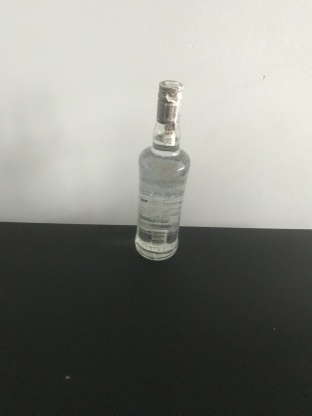nakretka: (155, 78, 185, 124)
